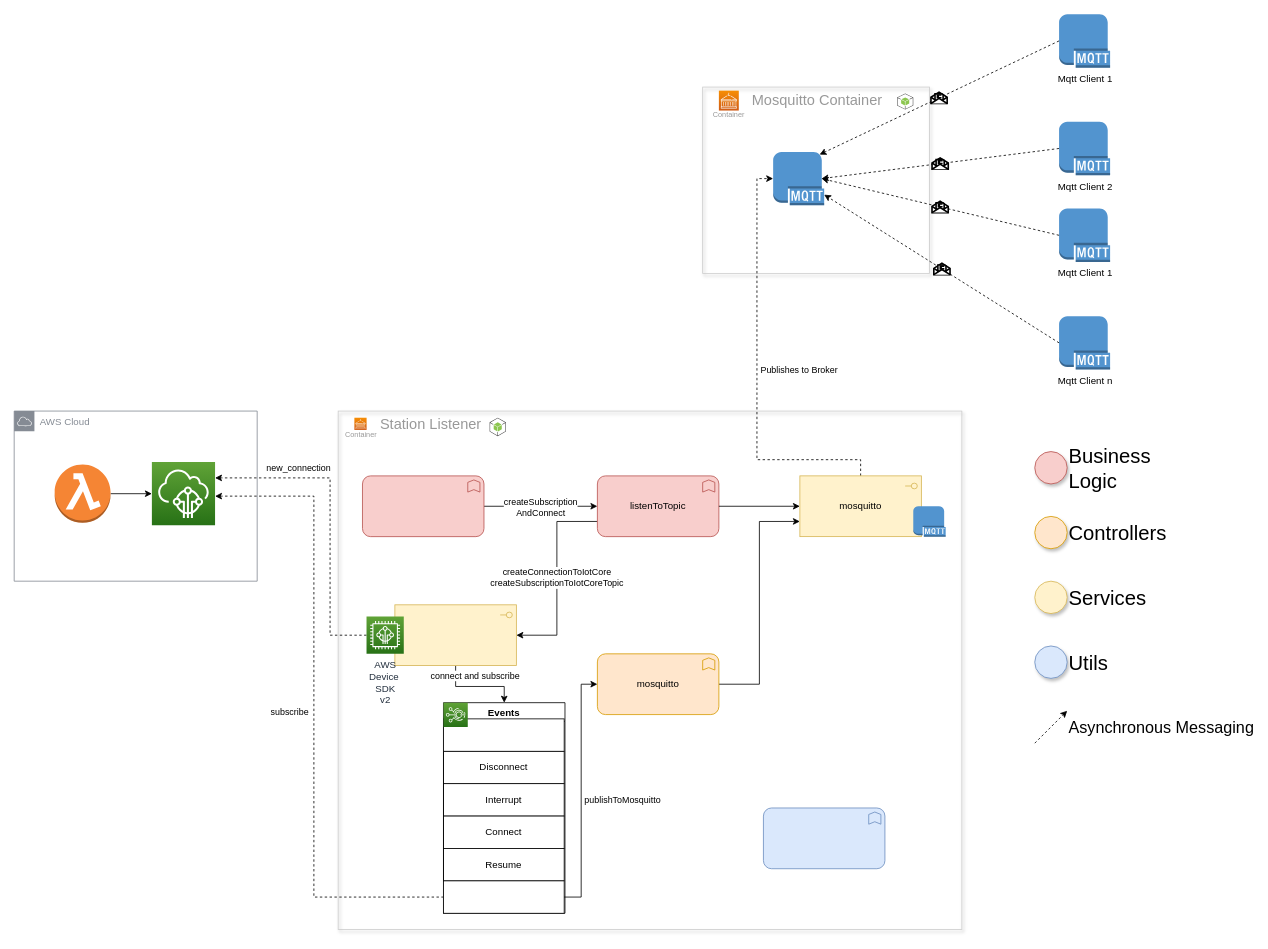
Some shapes in this 1268 by 949 pixel diagram are drawn without their labels. The shapes that lost their labels are listed below. From the top down, each one's centre as x and y in pixels, then its label:
At pixel 798 178: "Mosquitto 2.0 MQTT Server".
At pixel 82 493: "TopicSender-Function".
At pixel 183 493: "cmd/station/topic".
At pixel 423 506: "index".
At pixel 929 521: "Mqtt Client".
At pixel 455 635: "iotv2".
At pixel 503 734: "Error".
At pixel 824 838: "winstonLogger".
At pixel 503 896: "Subscribe: cmd/station/topic".
